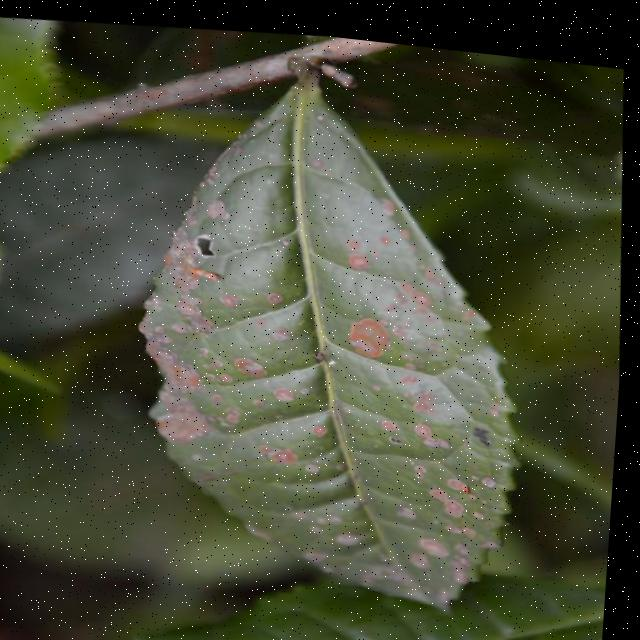Tea algae leaf spot: (146, 126, 500, 584)
